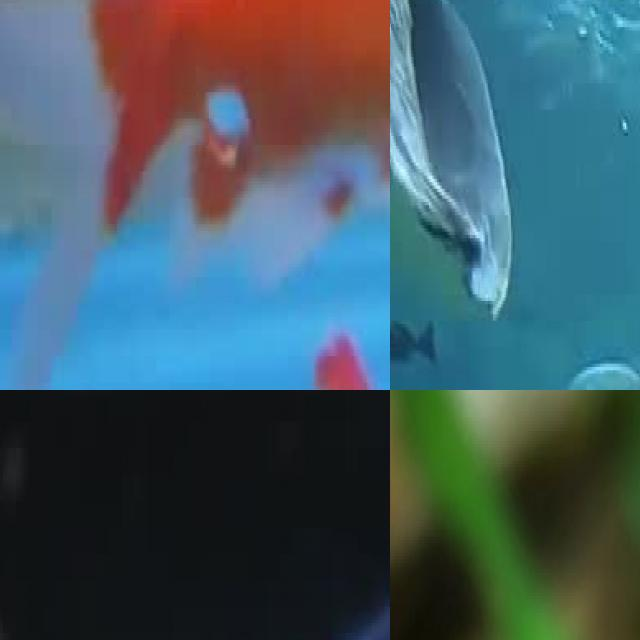fish: (0, 0, 390, 390), (535, 304, 640, 390)
